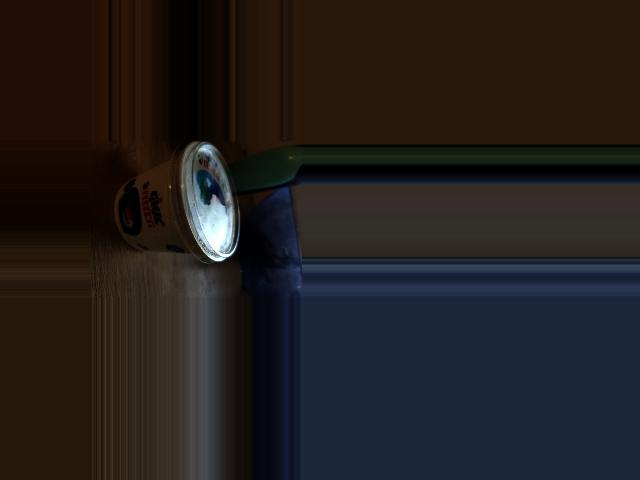cotage: (123, 154, 240, 255)
